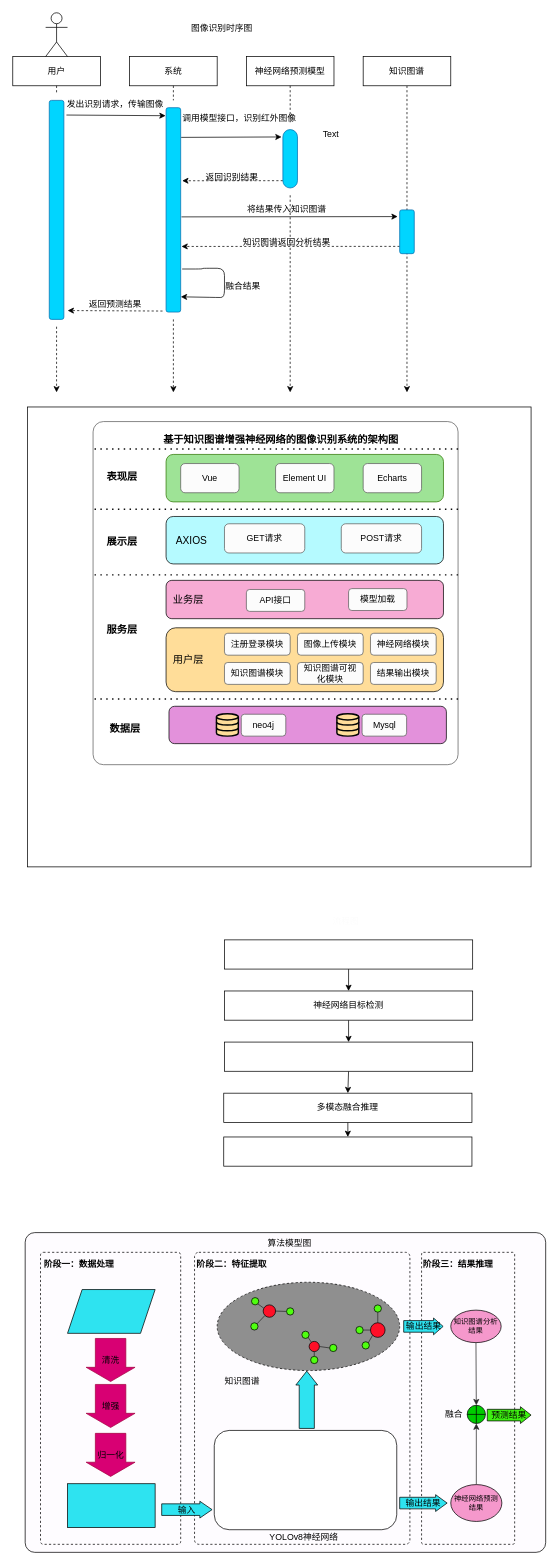
Image size: 558x1565. Some labels were removed from this diagram. Here are the shapes that lost their labels. From the top down, the centre of each, then its label:
At pixel 348 954: "数据收集与预处理".
At pixel 348 1056: "知识图谱分析".
At pixel 347 1151: "结果展示与报告生成".
At pixel 111 1311: "原始图像数据".
At pixel 306 1399: "预测 类别 结果".
At pixel 111 1505: "标准图像数据".
